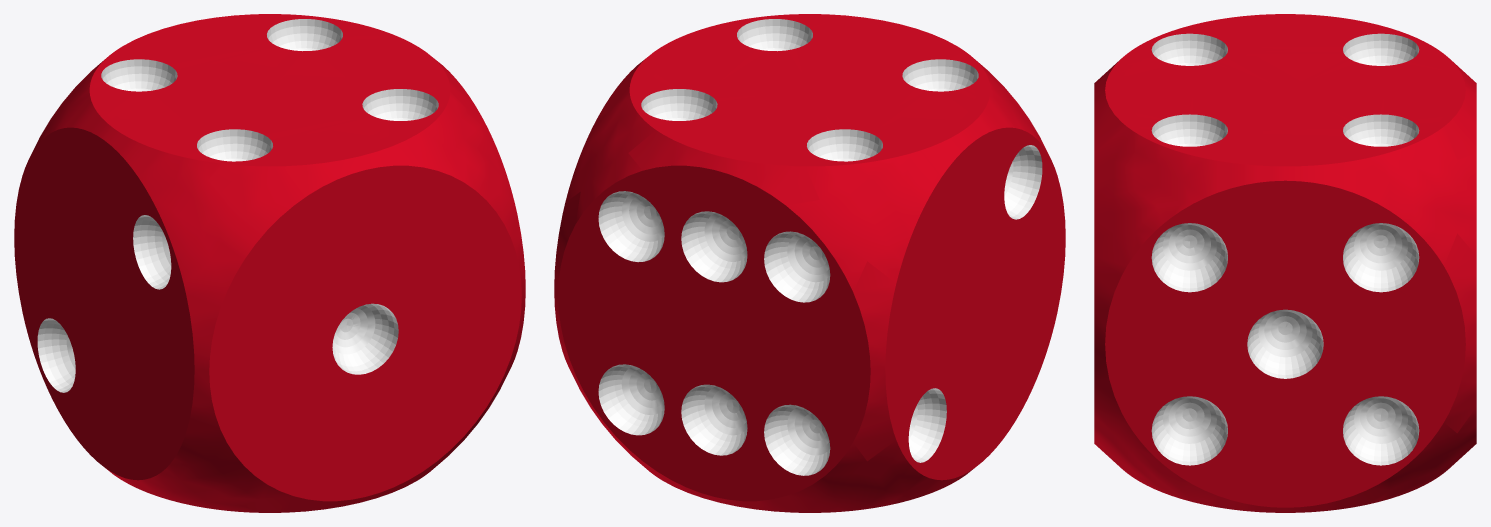
The model's file is dice.obj.
The picture shows the model from 3 angles, left to right: view 1: azimuth 30°, elevation 25°; view 2: azimuth 150°, elevation 25°; view 3: azimuth 270°, elevation 25°; orthographic projection.
Parts seen in each view (by area): view 1: group__1695616; view 2: group__1695616; view 3: group__1695616.
Boxes of the visible parts, x1,y1,x2,y2 form: group__1695616: (14,14,525,512); group__1695616: (554,14,1065,512); group__1695616: (1094,14,1476,512).
Bounding box in the file's own units: 0.6 × 0.6 × 0.6.
